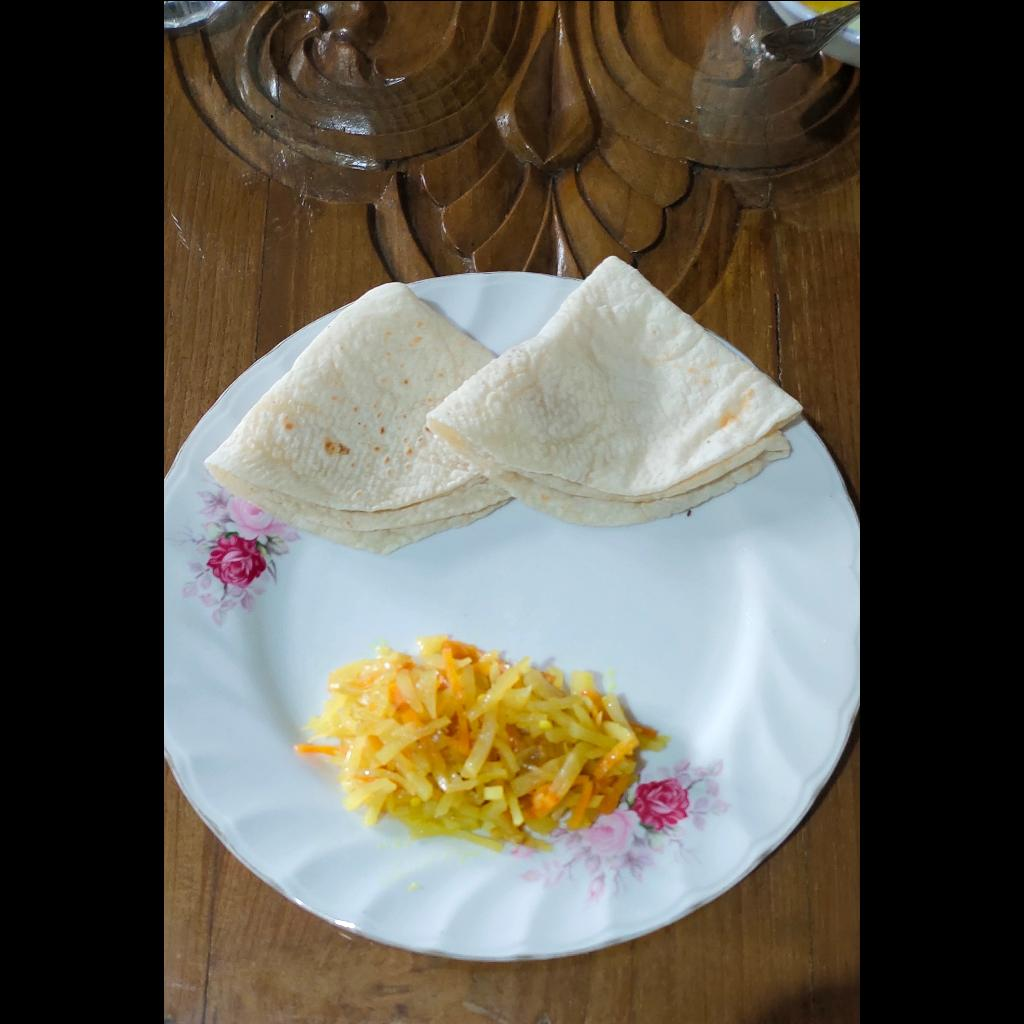ruti: (204, 254, 811, 563)
vaji: (292, 636, 667, 855)
